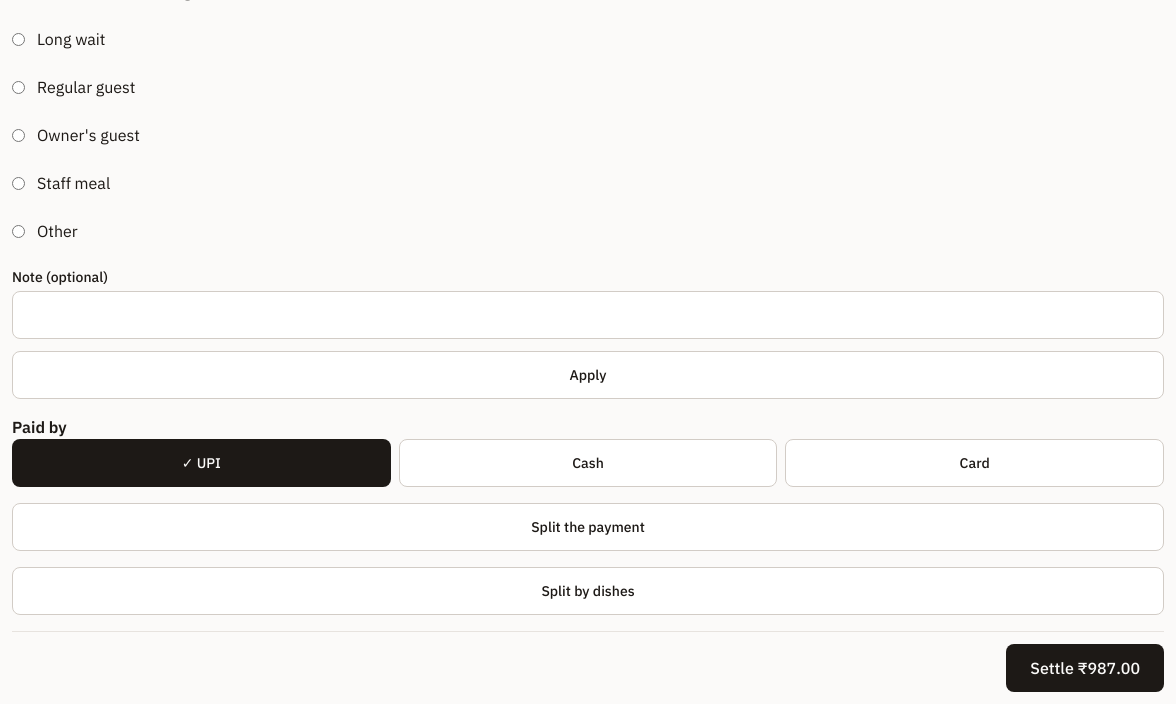
BillScreen › splits one bill across payments, sending what was typed and adding nothing up
(page scrolled)
Click the button "Split the payment".
click(588, 527)  # box [12, 503, 1164, 551]
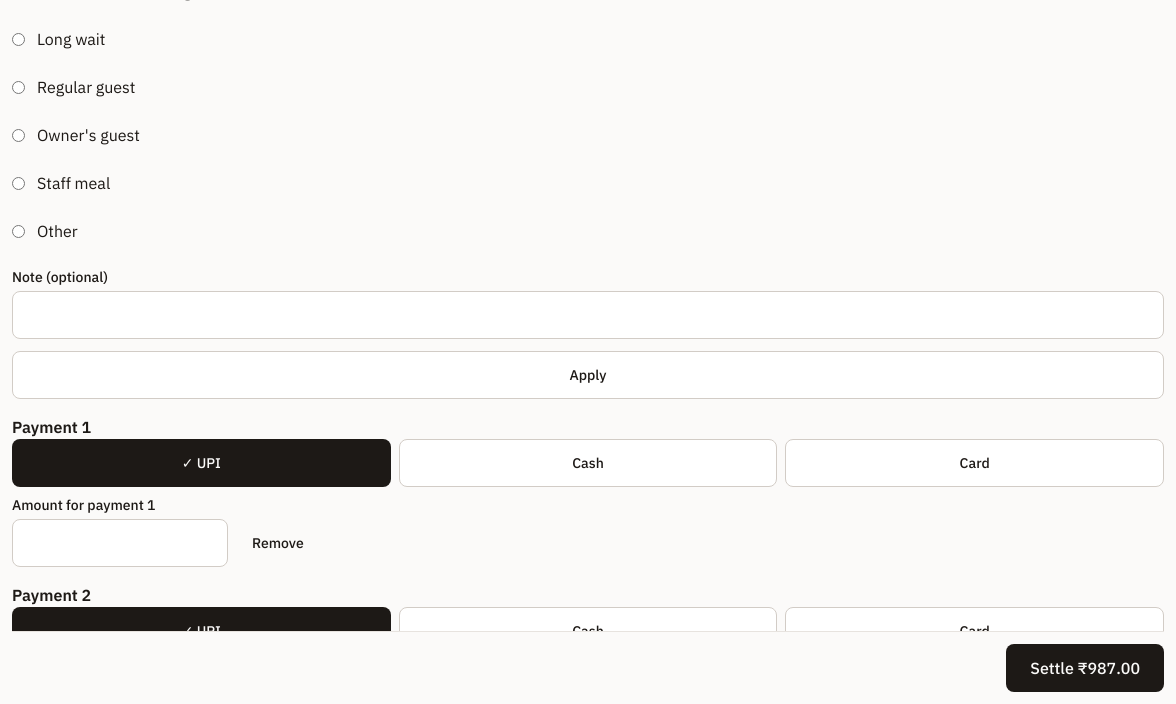
Type "500" into the field labelled "Amount for payment 1".
click(120, 543); type("500")  # box [12, 519, 228, 567]
(page scrolled)
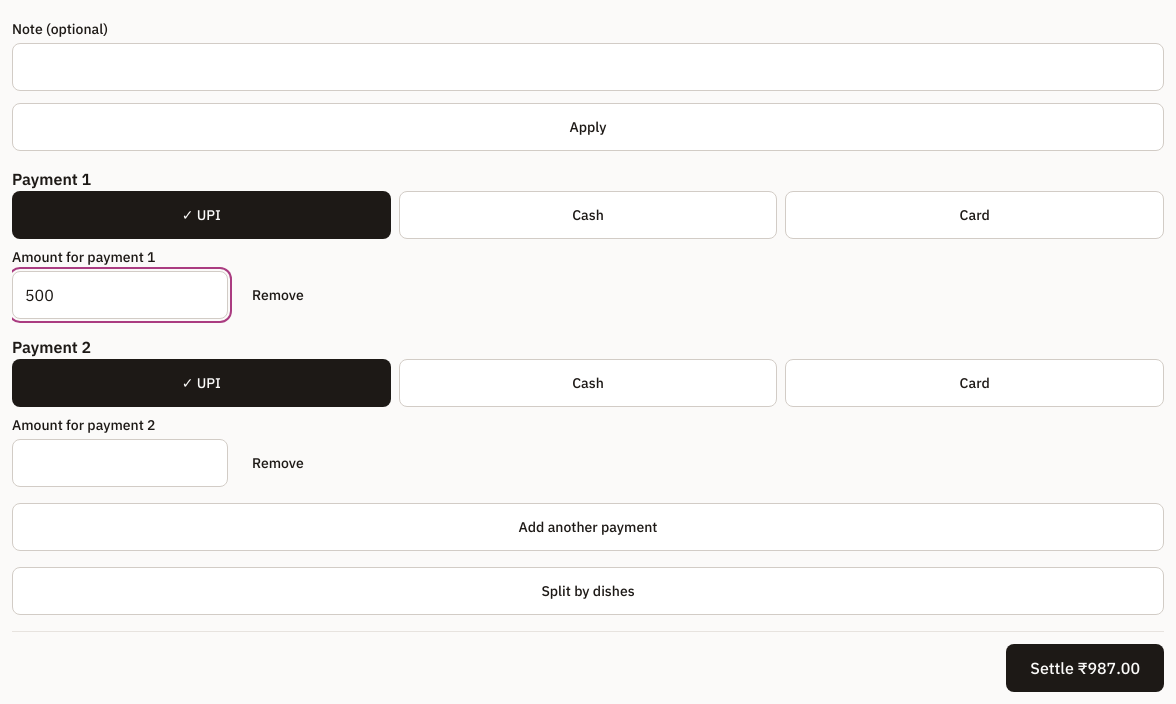
Type "487" into the field labelled "Amount for payment 2".
click(120, 463); type("487")  # box [12, 439, 228, 487]
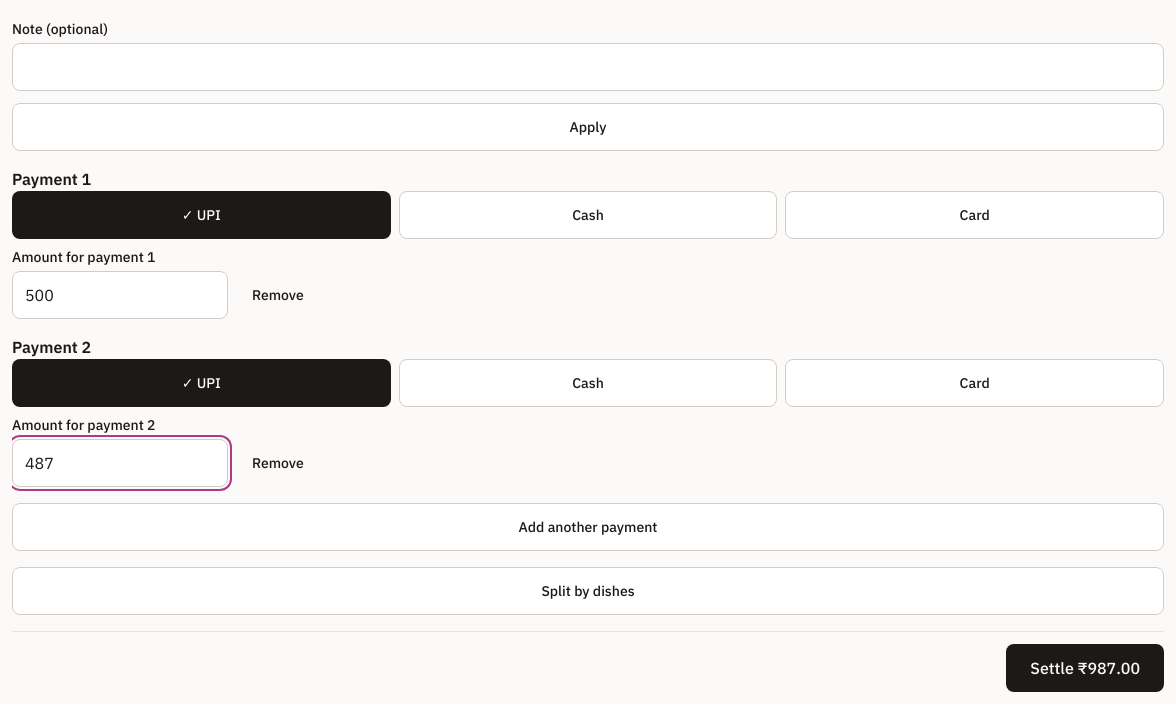
Click the 2nd button "Cash".
click(588, 383)  # box [399, 359, 777, 407]
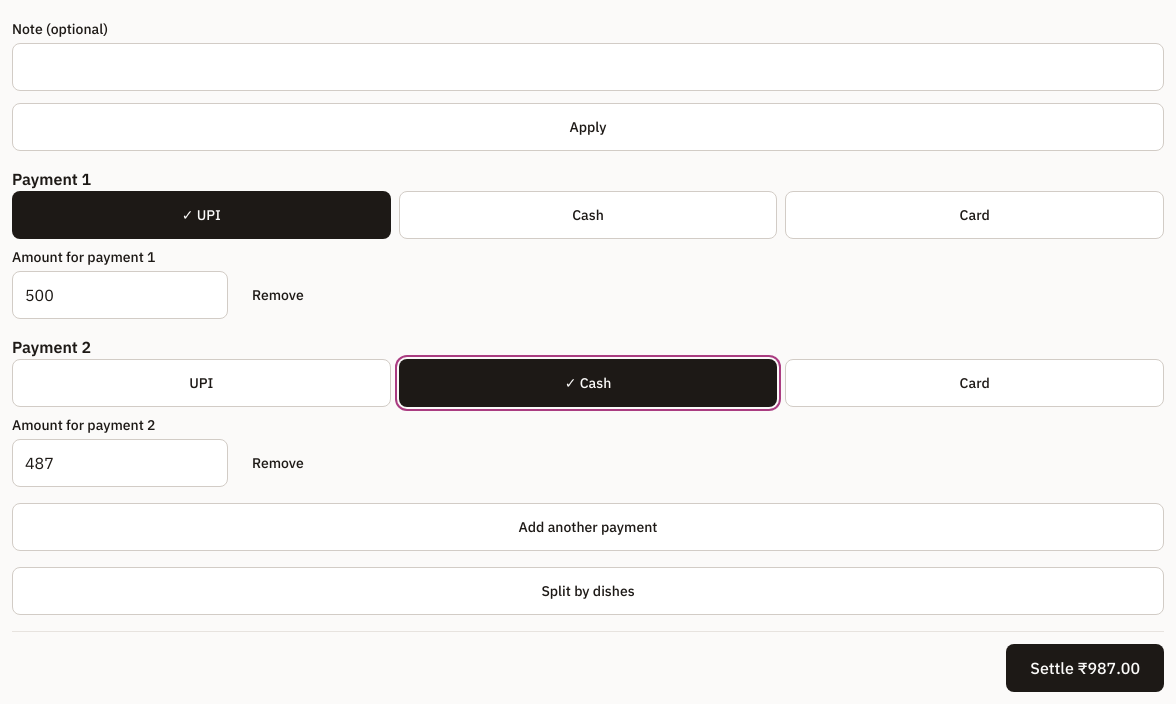
Click the button "Settle ₹987.00".
click(1085, 668)  # box [1006, 644, 1164, 692]
(page scrolled)
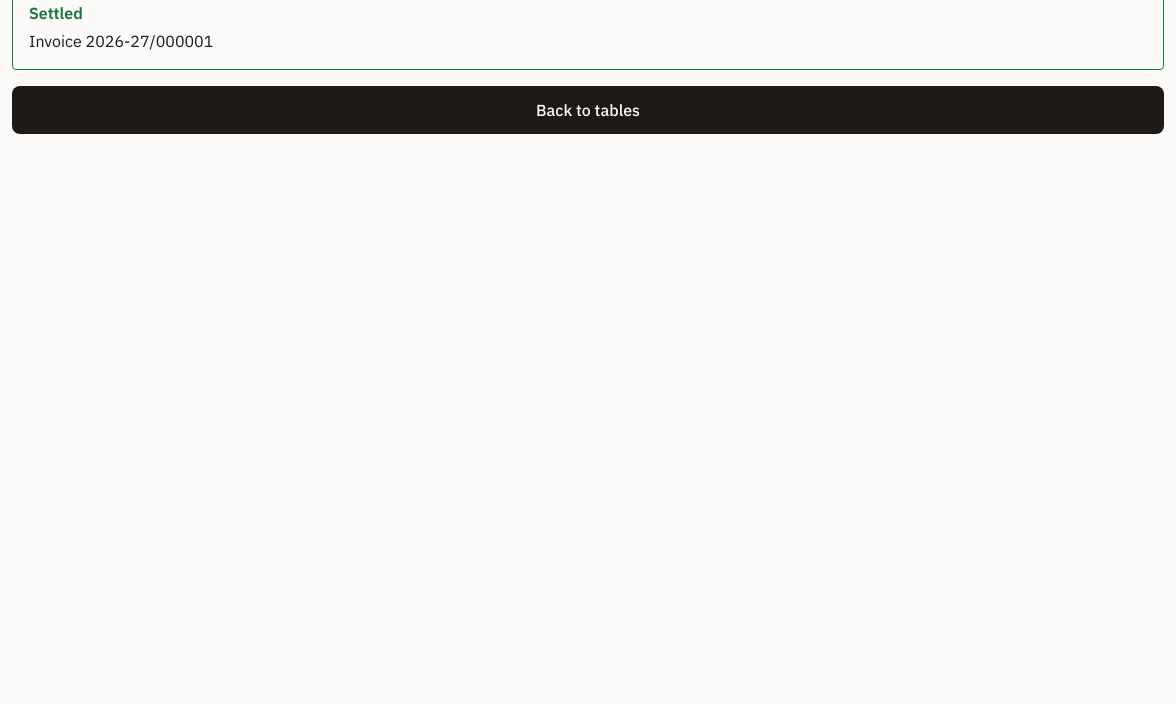
Now the text "Invoice 2026-27/000001" is shown, box [29, 31, 213, 51]
